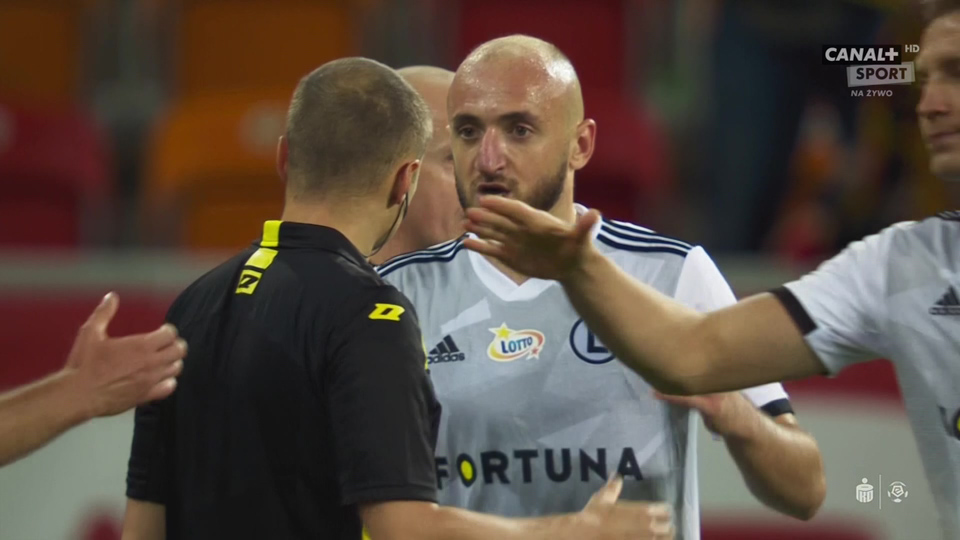Adidas: (422, 331, 466, 364), (928, 284, 960, 314)
